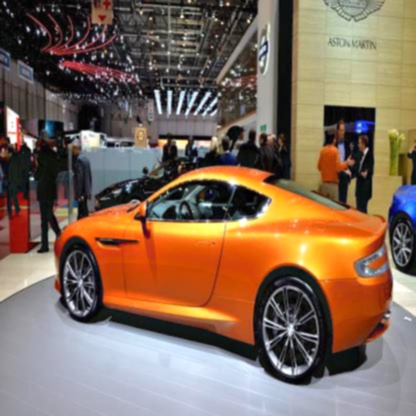Vehicle: (53, 161, 396, 389)
